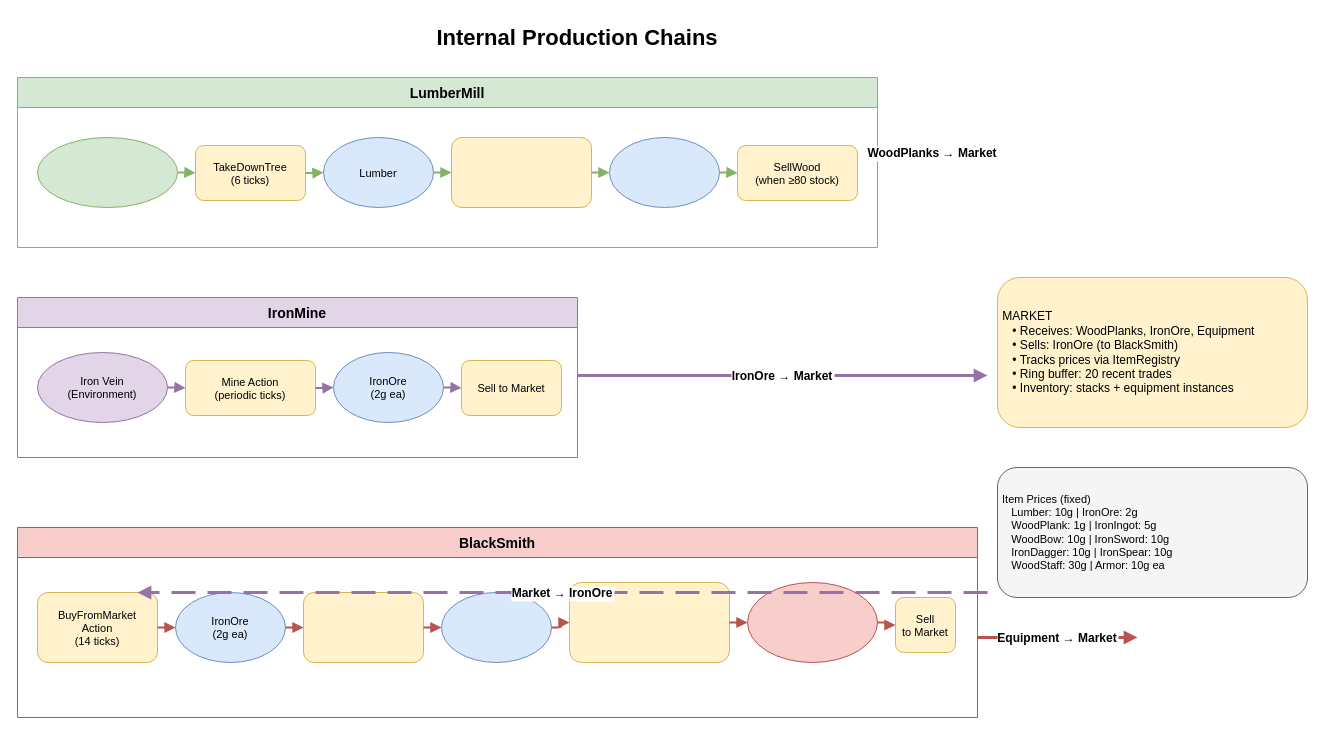
Some shapes in this 1325 by 735 pixel diagram are drawn without their labels. Here are the shapes that lost their labels. From the top down, the centre of each, then its label:
At [107,172]: "Trees (Environment)".
At [521,172]: "MakeWood (14 ticks) 1 lumber → 20 planks".
At [664,172]: "WoodPlanks (1g ea)".
At [363,627]: "MakeIngot (2 ticks) 2 ore → 1 ingot".
At [496,627]: "IronIngot (5g ea)".
At [649,622]: "Craft Actions (8 ticks ea.) IronSword = 2 ingots IronDagger = 1 ingot".
At [812,622]: "Equipment Weapons / Armor (10–30g ea)".
